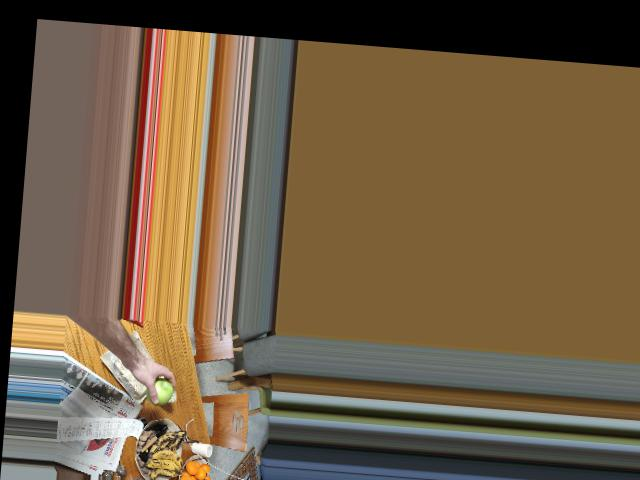apple: (135, 370, 175, 405)
